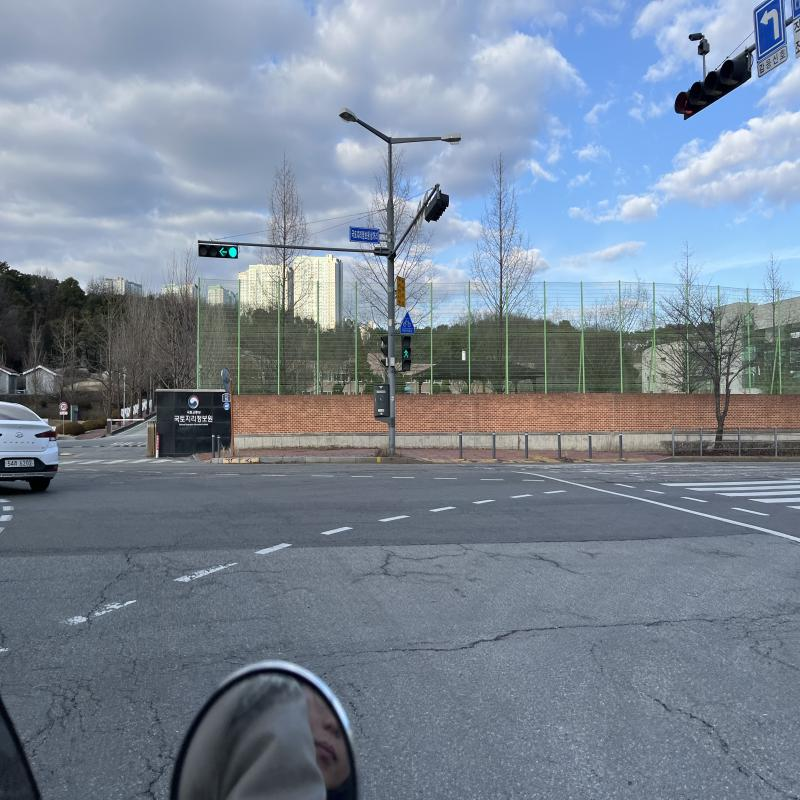green: (229, 246, 238, 259)
left: (218, 246, 228, 258)
